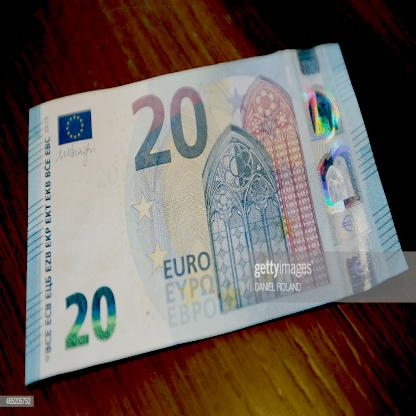euro_banknote: (28, 67, 388, 337)
